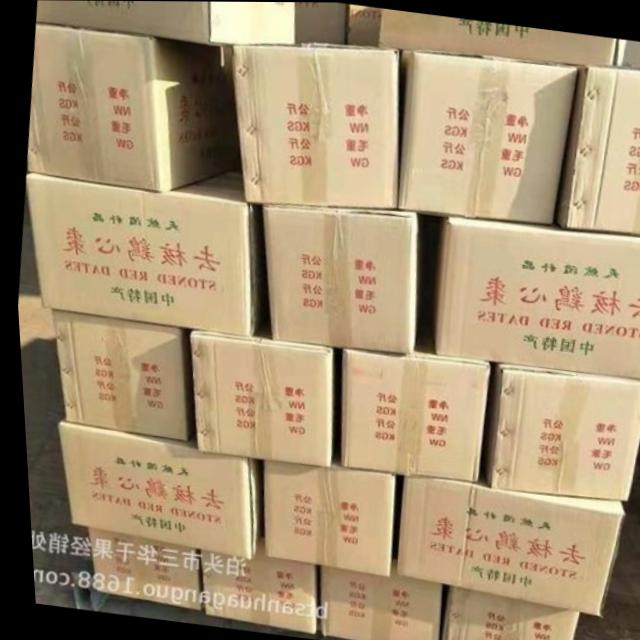box: (24, 166, 264, 335), (25, 21, 241, 192), (424, 213, 640, 380), (389, 475, 619, 614), (395, 52, 579, 221), (53, 422, 259, 560), (335, 306, 488, 481), (233, 45, 397, 206), (472, 361, 640, 501), (184, 314, 338, 466), (261, 206, 416, 352), (47, 307, 189, 441), (254, 444, 390, 576), (552, 66, 640, 234), (378, 9, 617, 65), (37, 0, 348, 43), (315, 533, 437, 640), (191, 536, 310, 634), (81, 525, 193, 608), (433, 583, 574, 640), (610, 39, 640, 66)
